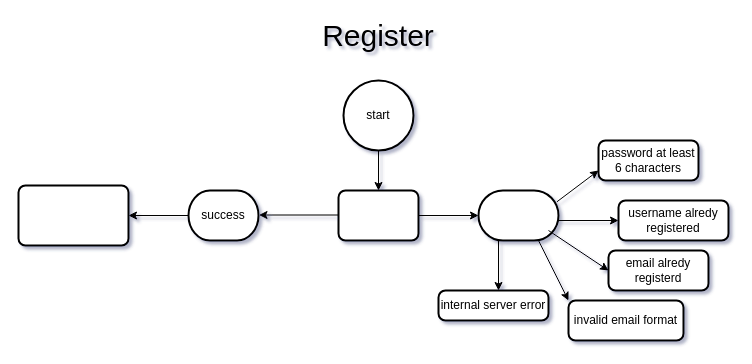
This 752x364 diagram has some shape labels left out. The box of each missing label's shape, as (x1, y1, x2, y2) in pixels:
[ success mesage, new user data ]: (17, 184, 129, 246)
failed: (477, 189, 559, 241)
regiser success?: (337, 189, 419, 241)
